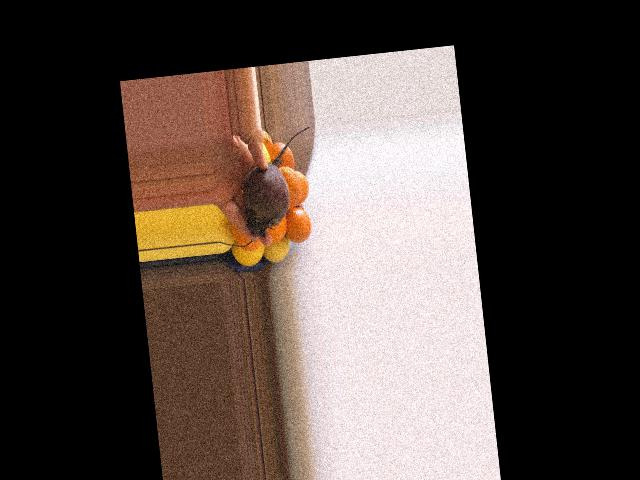beet: (236, 127, 320, 237)
